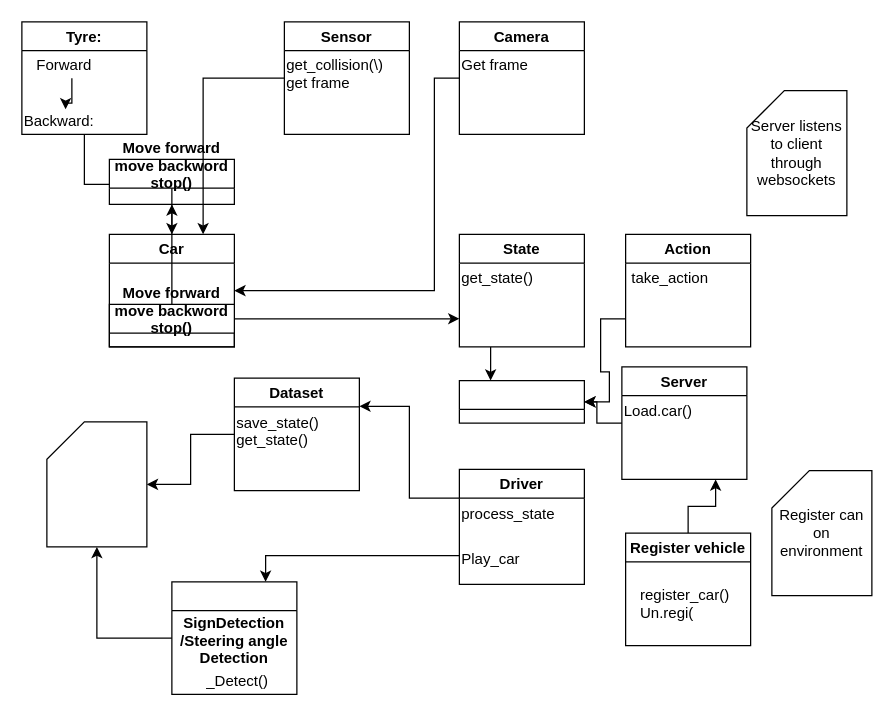
This 894x716 diagram has some shape labels left out. Here are the shapes that lost their labels. From the top down, the centre of each, then its label:
(521,401): Request_Handler
(96,484): It will detect traffic light
